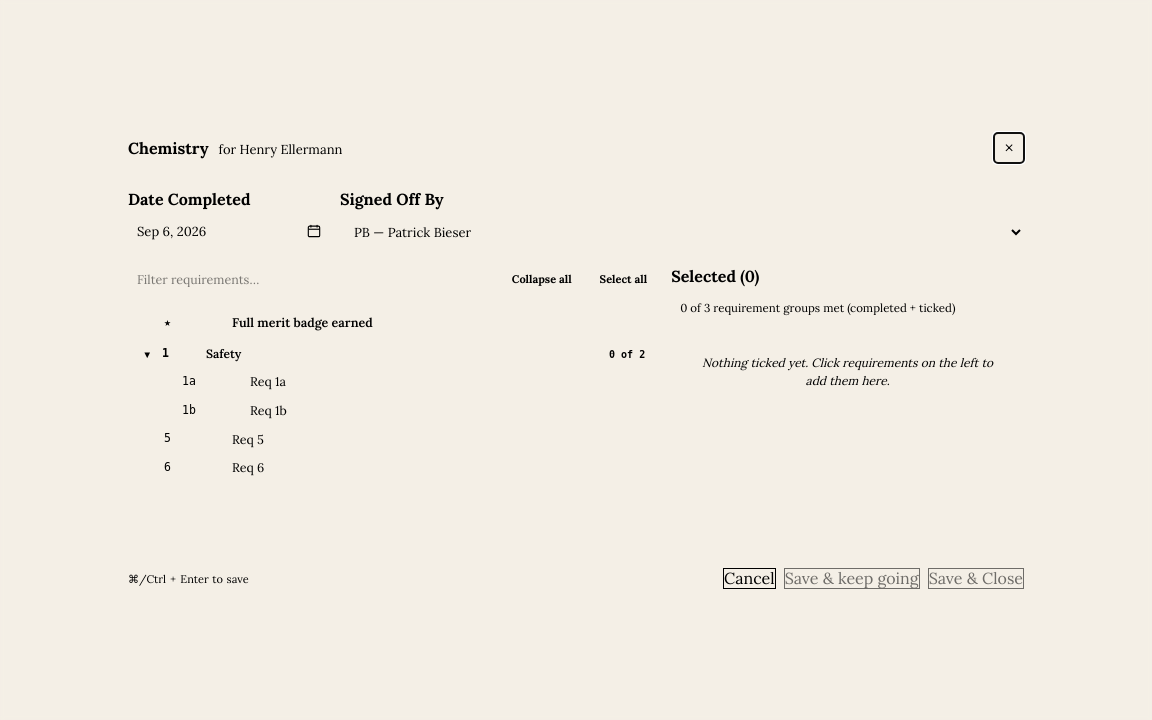
Test: MbFocusModal ★ award row › selects the award on a clean slate and enables Save
Expected: the button "Save & Close" is disabled, [928,568,1024,590]
Click the button "★ Full merit badge earned" at (268, 322), box [164,314,373,330]
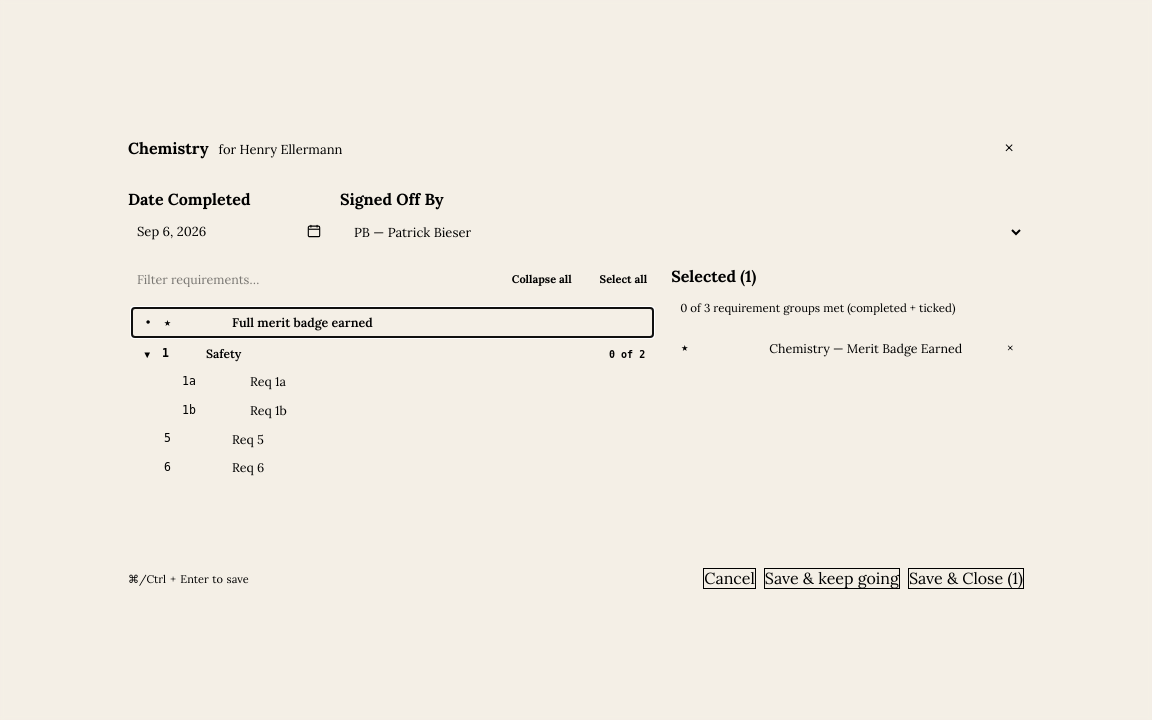
Expected: the text "Selected (1)" is shown, [671,266,756,286]
Expected: the button "Save & Close (1)" is shown, [908,568,1024,590]
Expected: the button "Save & Close (1)" is enabled, [908,568,1024,590]
